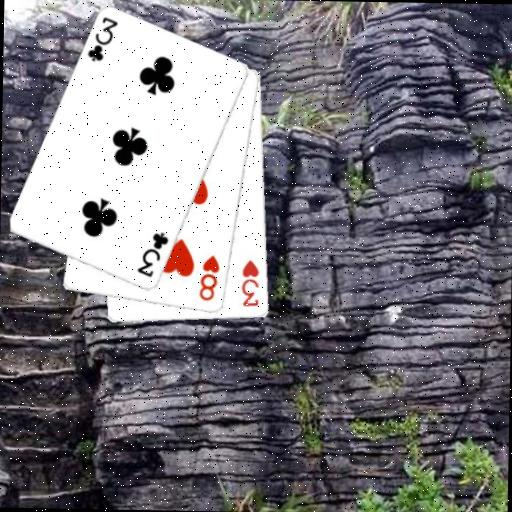3C: (134, 229, 170, 280), (85, 14, 121, 65)
3H: (239, 258, 261, 309)
8H: (196, 252, 221, 303)
